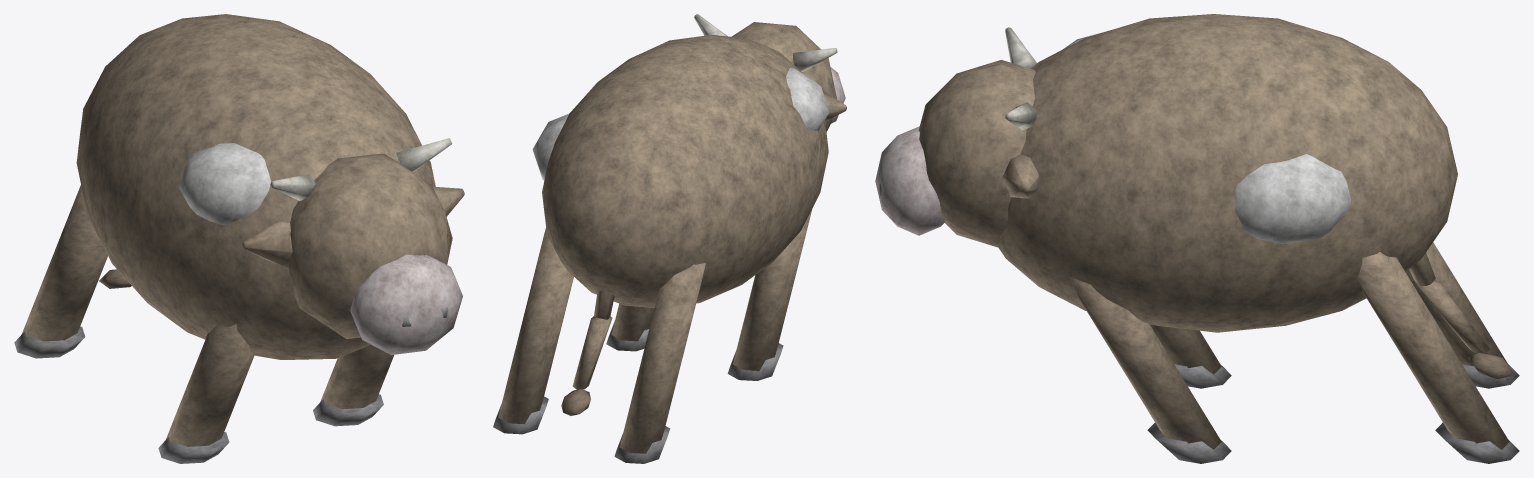
File: mob_sapi_walk2.obj
The picture shows the model from 3 angles, left to right: view 1: azimuth 30°, elevation 25°; view 2: azimuth 150°, elevation 25°; view 3: azimuth 270°, elevation 25°; orthographic projection. The views are drawn at different scales.
Visible parts, largest first — view 1: mob_sapi_walk2; view 2: mob_sapi_walk2; view 3: mob_sapi_walk2.
Part boxes in pixels (<box>): mob_sapi_walk2: <box>14,14,464,463</box>; mob_sapi_walk2: <box>493,14,846,463</box>; mob_sapi_walk2: <box>875,14,1519,463</box>.
Size of the model in its own units: 1.05 by 1.37 by 2.06.
Materials: 1 (1 with a texture image).
